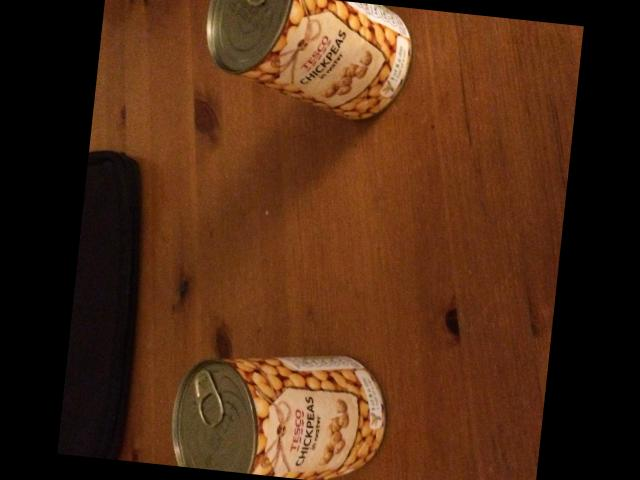metal: (171, 356, 384, 480), (205, 0, 410, 120)
